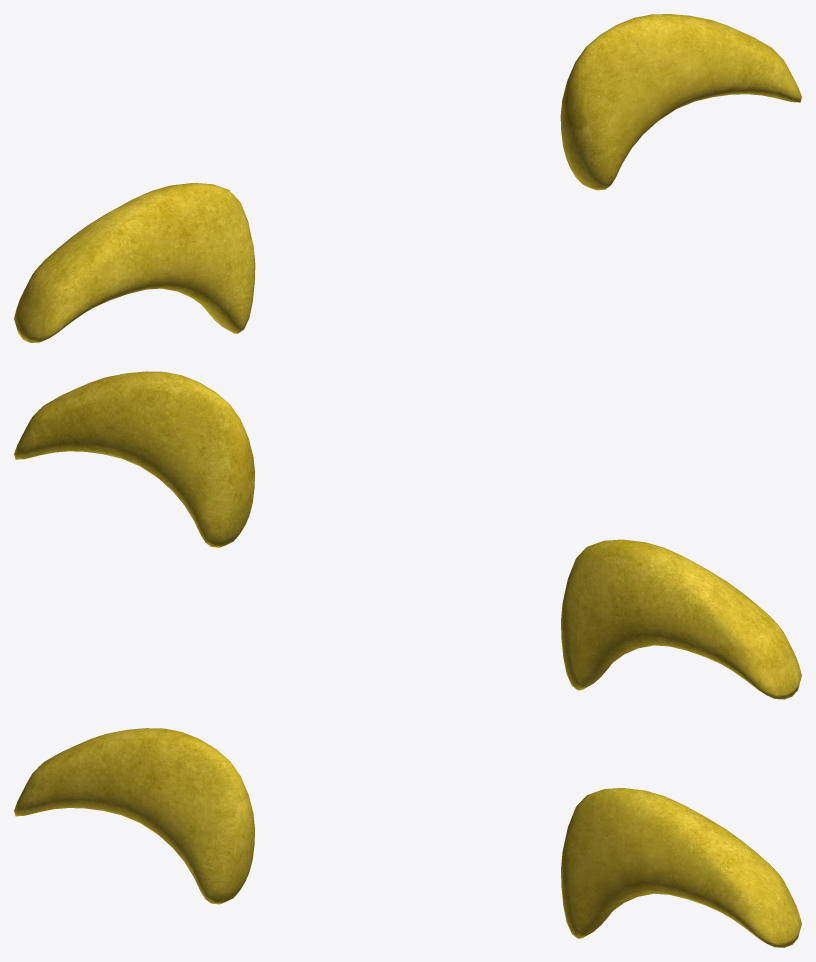
File: Adrenal Gland.fbx
The picture shows the model from 3 angles, top to bottom: view 1: azimuth 30°, elevation 25°; view 2: azimuth 150°, elevation 25°; view 3: azimuth 330°, elevation 25°; orthographic projection.
Visible parts, largest first — view 1: Adrenal Gland; view 2: Adrenal Gland; view 3: Adrenal Gland.
Part boxes in pixels (x1,y1,x2,y2): Adrenal Gland: (14, 14, 801, 342); Adrenal Gland: (14, 371, 801, 699); Adrenal Gland: (14, 728, 801, 947).
Bounding box in the file's own units: 250 × 64.94 × 22.39.
